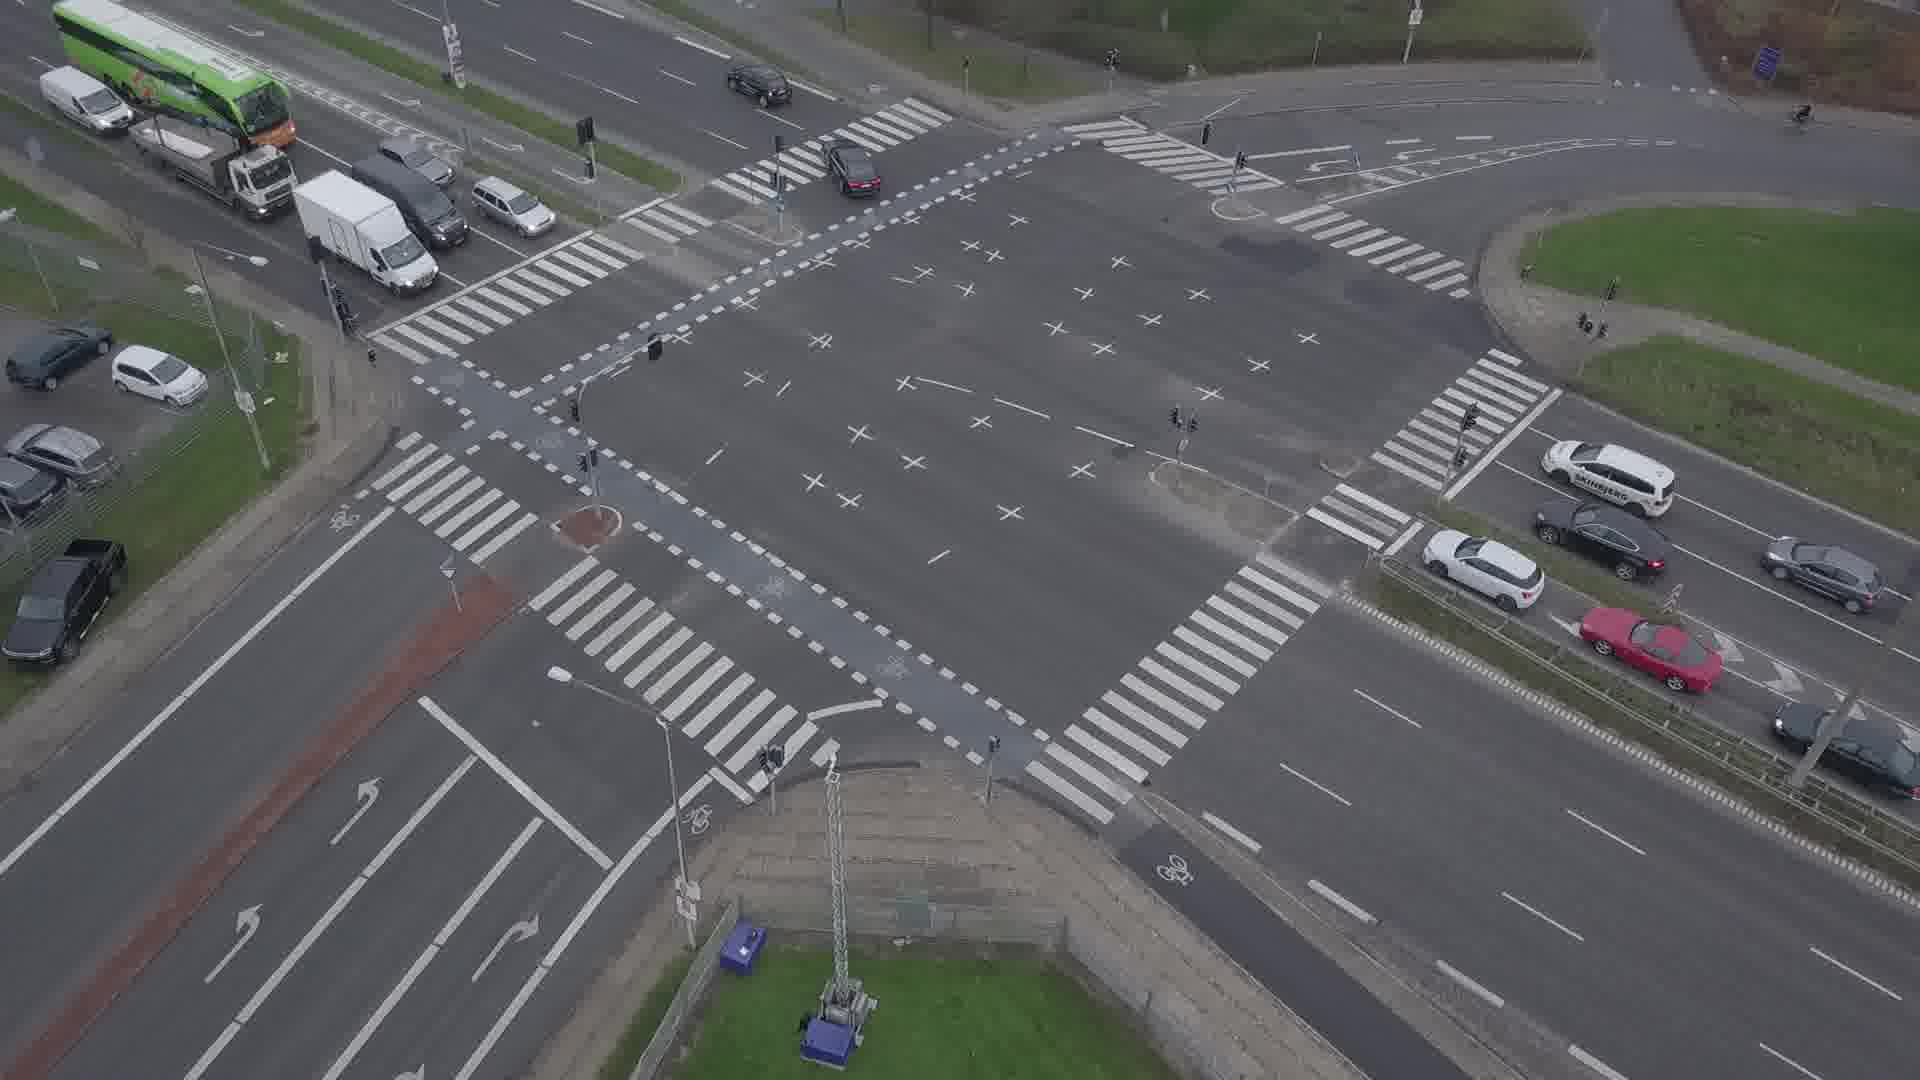bicycle: (333, 299, 364, 342), (1782, 97, 1818, 127)
bus: (49, 0, 295, 149)
car: (1768, 703, 1920, 799), (1579, 604, 1723, 694), (1532, 499, 1672, 581), (1540, 439, 1677, 517), (1760, 536, 1887, 616), (1422, 529, 1545, 610), (470, 174, 556, 239), (374, 135, 457, 190), (821, 139, 883, 202), (727, 64, 792, 110)
lorry: (127, 101, 297, 223), (290, 168, 440, 296), (345, 152, 466, 251), (38, 65, 133, 136)
